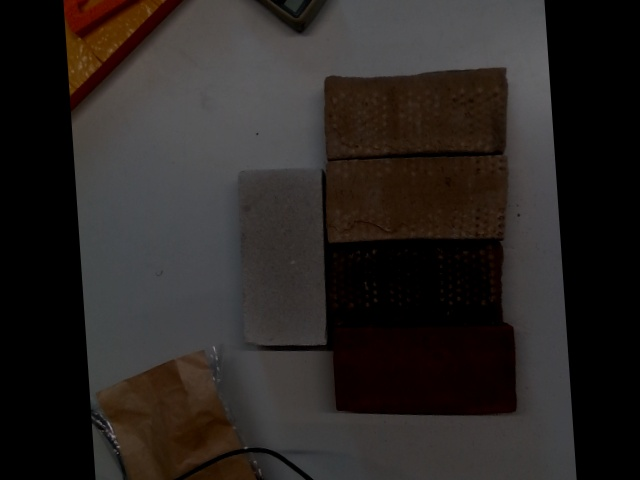brick: (331, 329, 514, 417), (326, 241, 501, 329), (242, 168, 325, 346), (326, 159, 503, 241), (326, 77, 503, 150)
